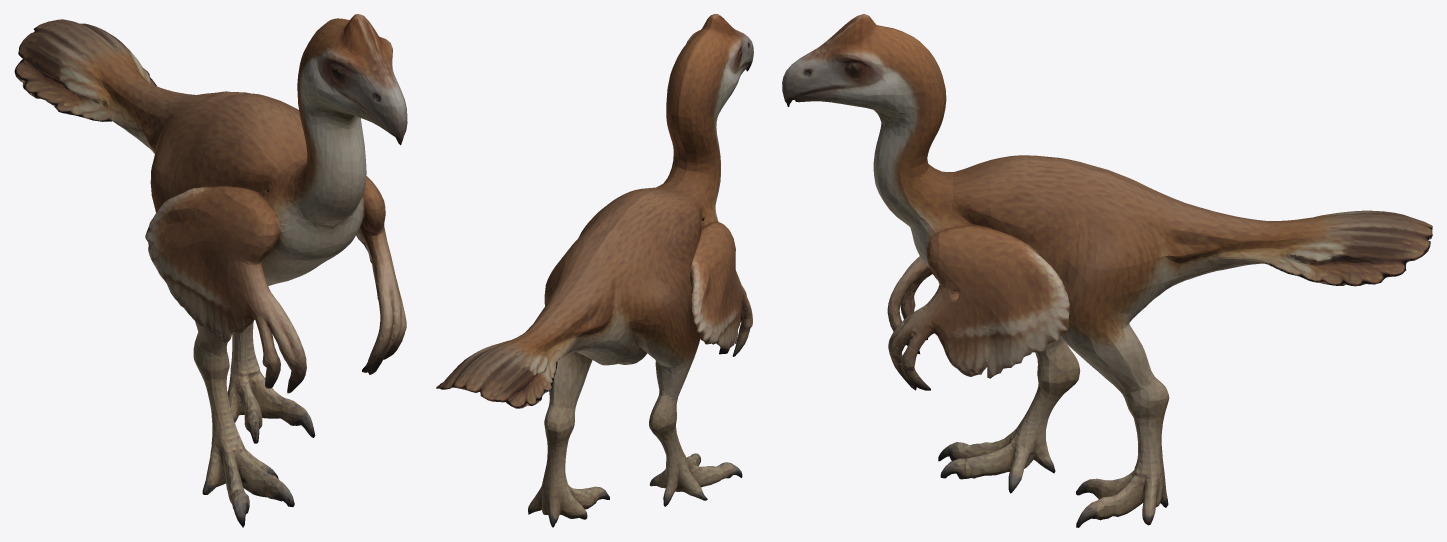
3 renders of one model, left to right at view 1: azimuth 30°, elevation 25°; view 2: azimuth 150°, elevation 25°; view 3: azimuth 270°, elevation 25°, orthographic. The views are drawn at different scales.
Parts seen in each view (by area): view 1: world; view 2: world; view 3: world.
Part boxes in pixels (x1,y1,x2,y2): world: [14, 14, 407, 527]; world: [436, 14, 753, 527]; world: [782, 14, 1432, 527].
Bounding box in the file's own units: 0.5855 × 1.47 × 1.8.
Materials: 1 (1 with a texture image).
